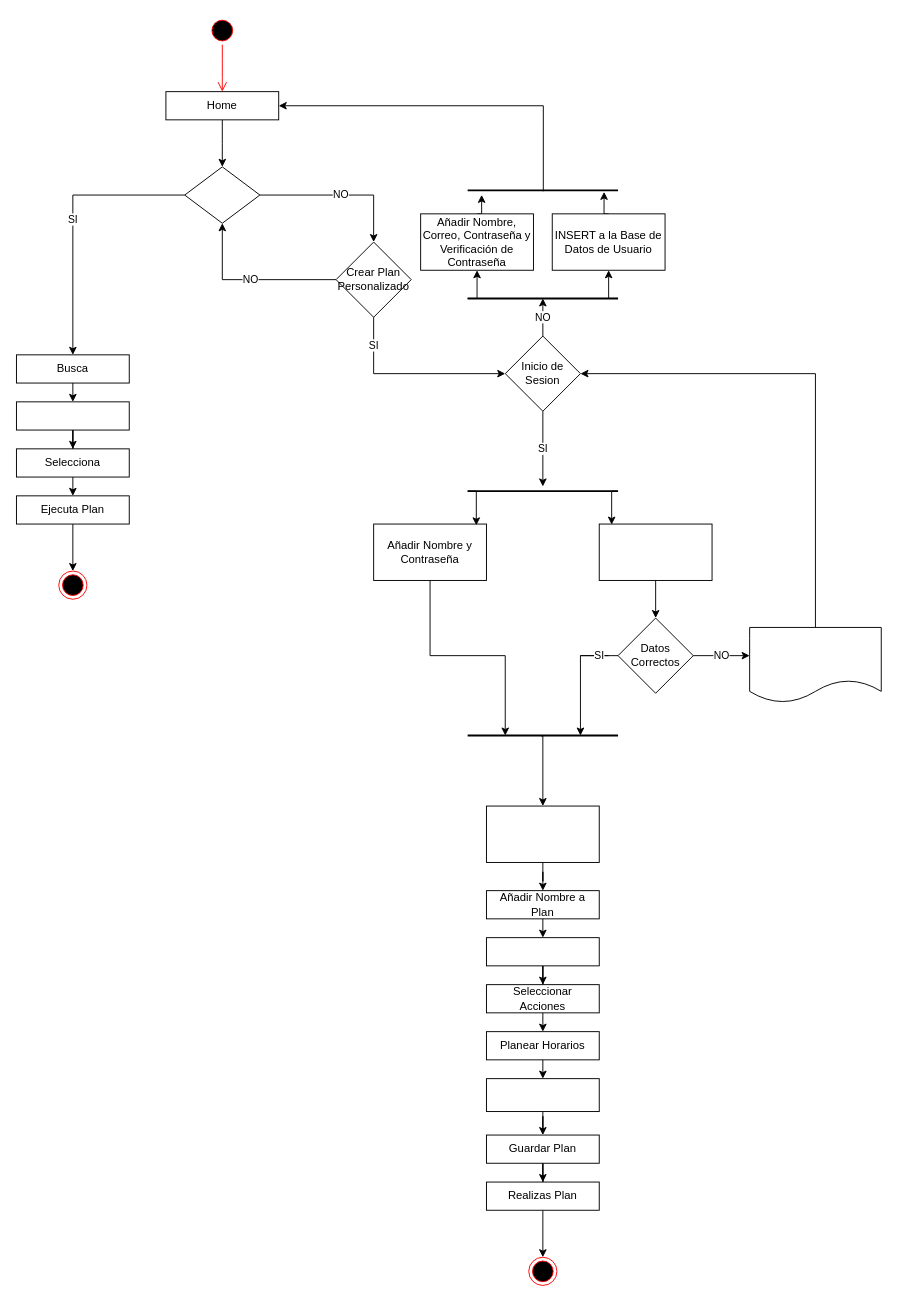
This 898x1302 diagram has some shape labels left out. The shapes that lost their labels are listed below. From the top down, each one's centre as x and y in pixels, then its label:
At (x=222, y=194): "Seleccionar Plan".
At (x=72, y=415): "Filtra".
At (x=655, y=551): "Comprobar datos en la Base de Datos".
At (x=815, y=665): "Mnesaje : Los datos de inicio de sesión, no son correctos".
At (x=542, y=833): "Acceder a Crear Plan".
At (x=542, y=951): "Seleccionar Transporte".
At (x=542, y=1095): "Finalizar Plan".
